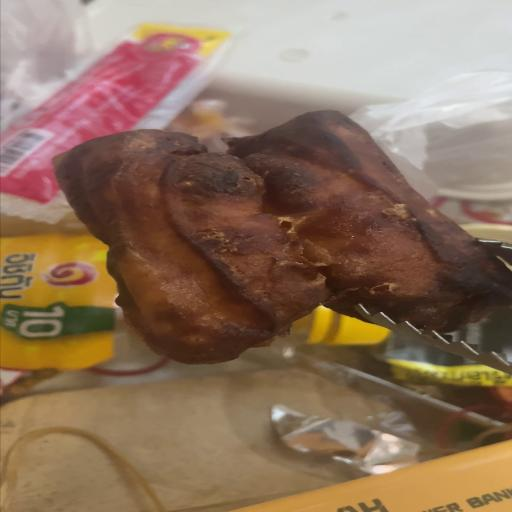street_burnt_defect: (54, 110, 512, 364)
